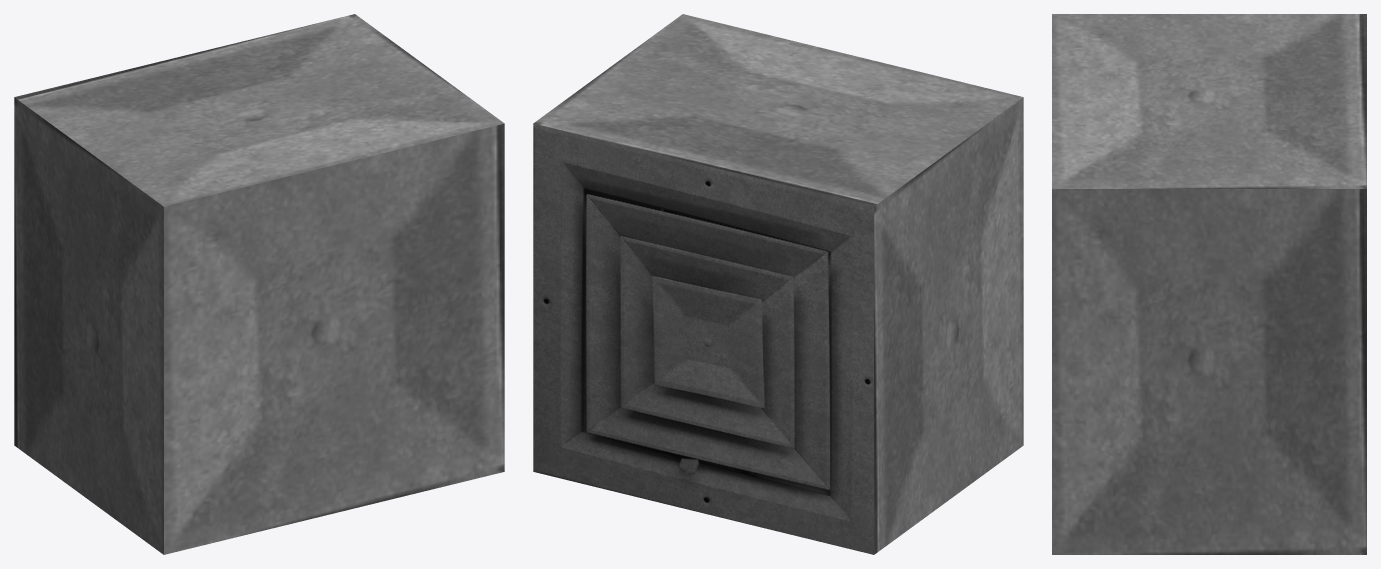
The model's file is Vent_3.FBX.
3 views of the same model, side by side, from view 1: azimuth 30°, elevation 25°; view 2: azimuth 150°, elevation 25°; view 3: azimuth 270°, elevation 25° (orthographic). The views are drawn at different scales.
Parts seen in each view (by area): view 1: Vent_3; view 2: Vent_3; view 3: Vent_3.
Boxes of the visible parts, bbox=[...] form: Vent_3: bbox=[14, 14, 504, 554]; Vent_3: bbox=[533, 14, 1023, 554]; Vent_3: bbox=[1052, 14, 1366, 554].
Size of the model in its own units: 0.8426 by 0.8224 by 0.6407.
